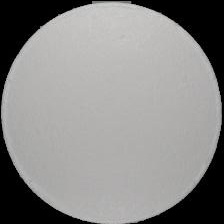21695-104: (0, 0, 224, 224)
